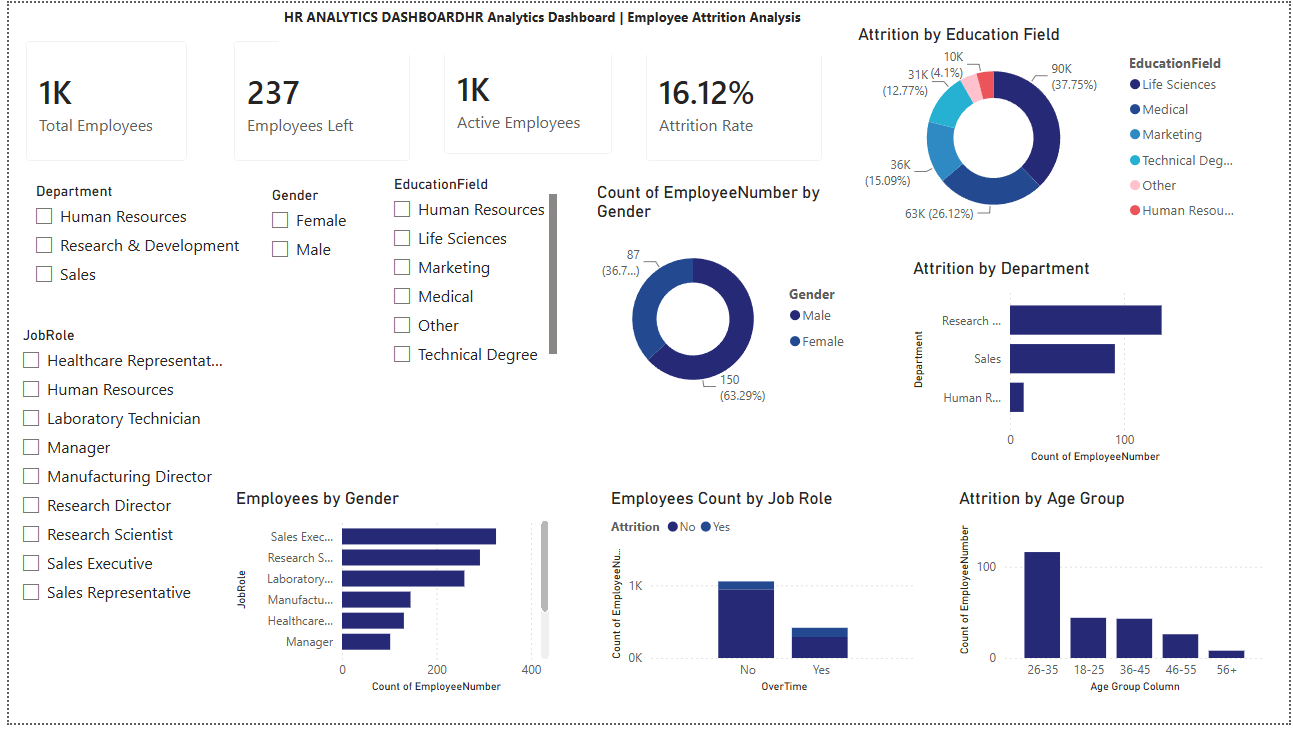

The page's visual inventory and layout, read from the dashboard file:
{"tool":"powerbi","page":{"name":"Page 1","canvas":[1280,720],"ordinal":0},"visuals":[{"type":"clusteredBarChart","title":"Attrition by Department","fields":{"Category":["HR_Analytics.Department"],"Y":["Count(HR_Analytics.EmployeeNumber)"]},"box":[899,255,288,209],"z":0},{"type":"donutChart","fields":{"Category":["HR_Analytics.Gender"],"Y":["CountNonNull(HR_Analytics.EmployeeNumber)"]},"box":[583,179,268,236],"z":1},{"type":"clusteredBarChart","title":"Employees by Gender","fields":{"Category":["HR_Analytics.JobRole"],"Y":["CountNonNull(HR_Analytics.EmployeeNumber)"]},"box":[222,485,323,209],"z":2},{"type":"clusteredColumnChart","title":"Attrition by Age Group","fields":{"Category":["HR_Analytics.Age Group Column"],"Y":["CountNonNull(HR_Analytics.EmployeeNumber)"]},"box":[945,485,315,209],"z":3},{"type":"columnChart","title":"Employees  Count by Job Role","fields":{"Category":["HR_Analytics.OverTime"],"Y":["CountNonNull(HR_Analytics.EmployeeNumber)"],"Series":["HR_Analytics.Attrition"]},"box":[597,485,316,209],"z":4},{"type":"cardVisual","fields":{"Data":["HR_Analytics.Employees Left"]},"box":[208,21,210,154],"z":6},{"type":"cardVisual","fields":{"Data":["HR_Analytics.Active Employees"]},"box":[418,21,202,147],"z":7},{"type":"cardVisual","fields":{"Data":["HR_Analytics.Attrition Rate"]},"box":[620,21,210,154],"z":8},{"type":"donutChart","title":"Attrition by Education  Field","fields":{"Category":["HR_Analytics.EducationField"],"Y":["Sum(HR_Analytics.EmployeeNumber)"]},"box":[844,21,398,209],"z":9},{"type":"slicer","fields":{"Values":["HR_Analytics.Department"]},"box":[14,175,223,129],"z":10},{"type":"slicer","fields":{"Values":["HR_Analytics.Gender"]},"box":[250,179,110,102],"z":11},{"type":"slicer","fields":{"Values":["HR_Analytics.JobRole"]},"box":[1,319,221,305],"z":12},{"type":"slicer","fields":{"Values":["HR_Analytics.EducationField"]},"box":[372,168,181,200],"z":13},{"type":"textbox","box":[270,0,552,52],"z":14},{"type":"cardVisual","fields":{"Data":["HR_Analytics.Total Employees"]},"box":[0,21,195,154],"z":15}]}

Visuals, with their boxes in screenshot pixels (x1, y1, x2, y2), scaled from the page's 1280x720 canvas onto the 1293x742 screenshot:
"Attrition by Department" clusteredBarChart: 908/263/1199/478
donutChart - HR_Analytics.Gender x CountNonNull(HR_Analytics.EmployeeNumber): 589/184/860/428
"Employees by Gender" clusteredBarChart: 224/500/551/715
"Attrition by Age Group" clusteredColumnChart: 955/500/1273/715
"Employees  Count by Job Role" columnChart: 603/500/922/715
cardVisual - HR_Analytics.Employees Left: 210/22/422/180
cardVisual - HR_Analytics.Active Employees: 422/22/626/173
cardVisual - HR_Analytics.Attrition Rate: 626/22/838/180
"Attrition by Education  Field" donutChart: 853/22/1255/237
slicer - HR_Analytics.Department: 14/180/239/313
slicer - HR_Analytics.Gender: 253/184/364/290
slicer - HR_Analytics.JobRole: 1/329/224/643
slicer - HR_Analytics.EducationField: 376/173/559/379
textbox: 273/0/830/54
cardVisual - HR_Analytics.Total Employees: 0/22/197/180
